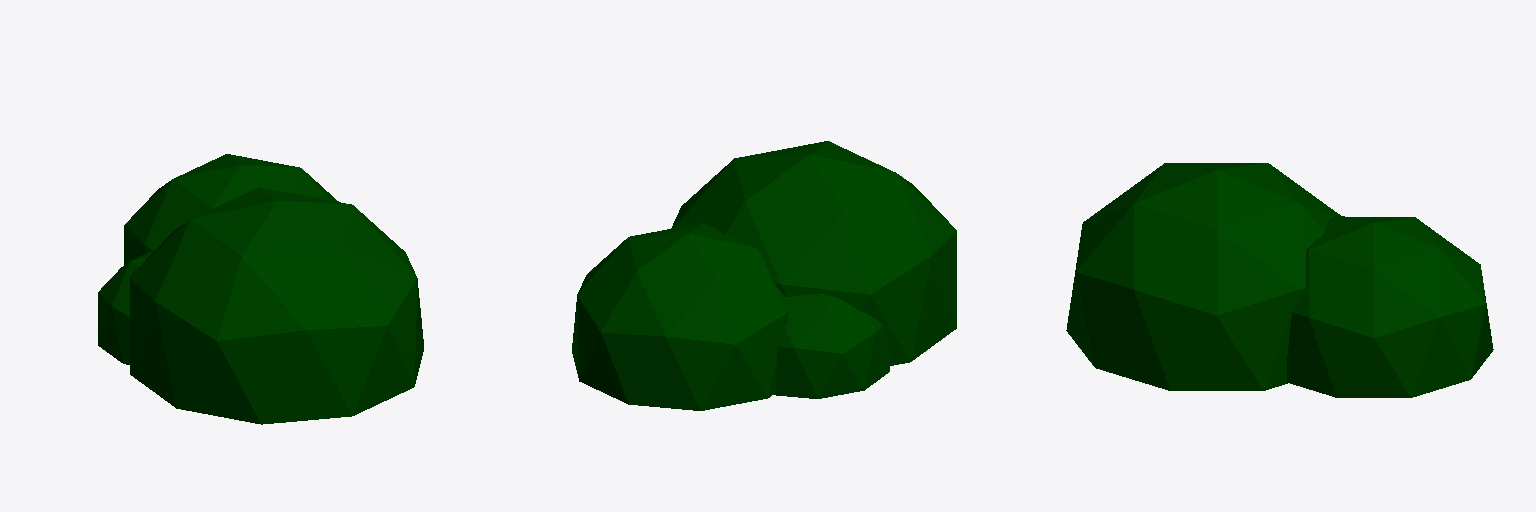
The model's file is bushes-old.obj.
The picture shows the model from 3 angles: view 1: azimuth 30°, elevation 25°; view 2: azimuth 150°, elevation 25°; view 3: azimuth 270°, elevation 25°; orthographic projection.
Visible parts, largest first — view 1: Icosphere; view 2: Icosphere; view 3: Icosphere.
Boxes of the visible parts, <box> form: Icosphere: <box>98,154,423,424</box>; Icosphere: <box>572,141,956,410</box>; Icosphere: <box>1066,163,1493,397</box>.
Size of the model in its own units: 1.87 by 1.08 by 2.58.